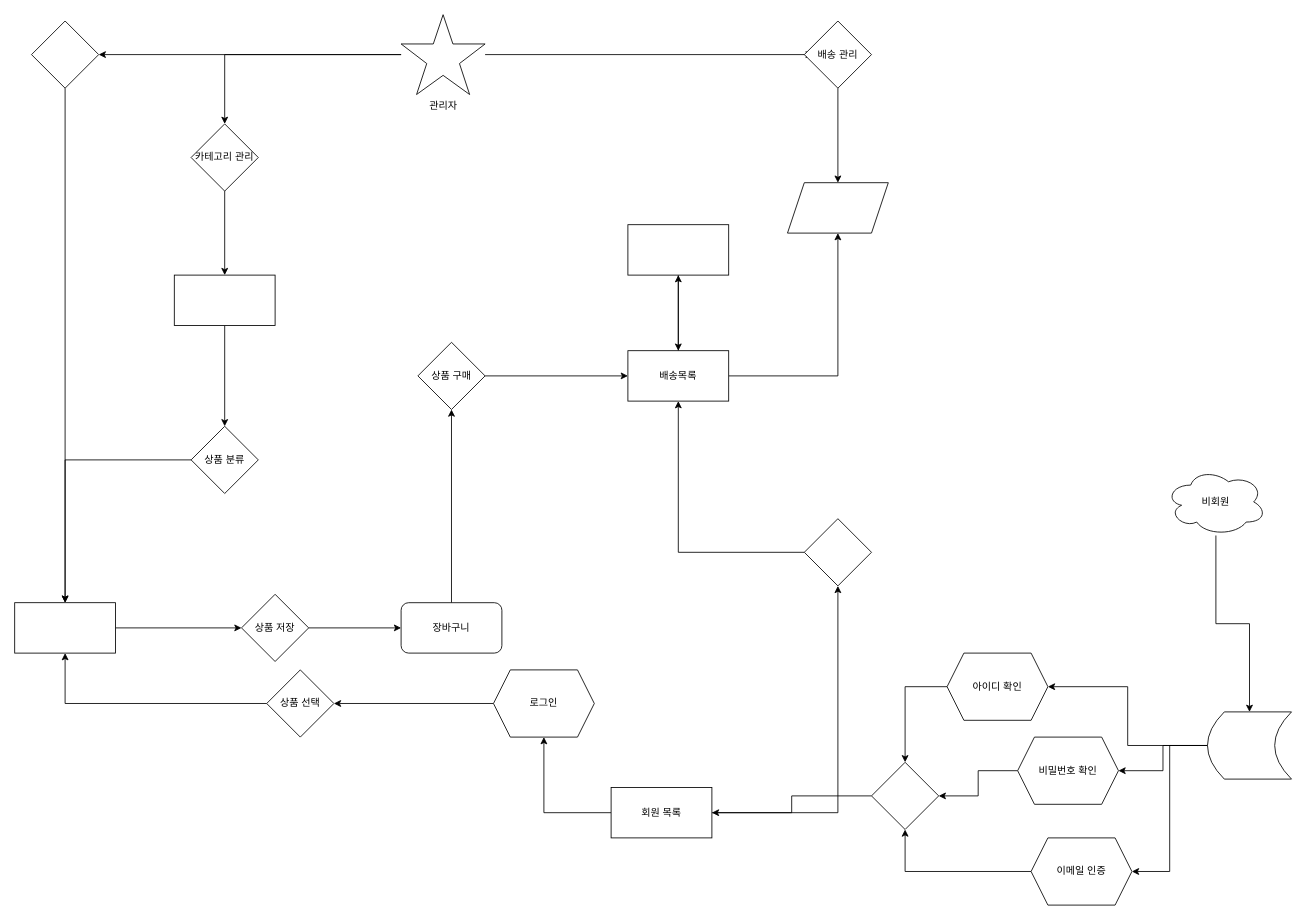
The diagram is 1306 pixels wide and 920 high, and some of its shapes have lost their labels. Each missing label, with the centre of its shape:
구매 목록: [678,249]
구매코드: [837,207]
배송 조회: [837,552]
상품 목록: [65,627]
상품 추가: [65,54]
정보 입력: [1249,745]
카테고리: [224,300]
회원가입: [905,795]
